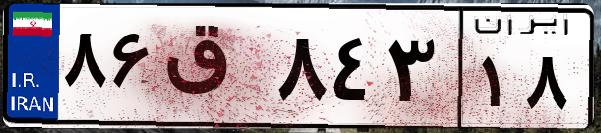1: (475, 38, 525, 113)
3: (385, 28, 445, 110)
4: (330, 28, 385, 110)
6: (110, 28, 158, 98)
8: (270, 28, 330, 110), (57, 26, 110, 100), (525, 38, 570, 115)
ق: (158, 20, 270, 120)
